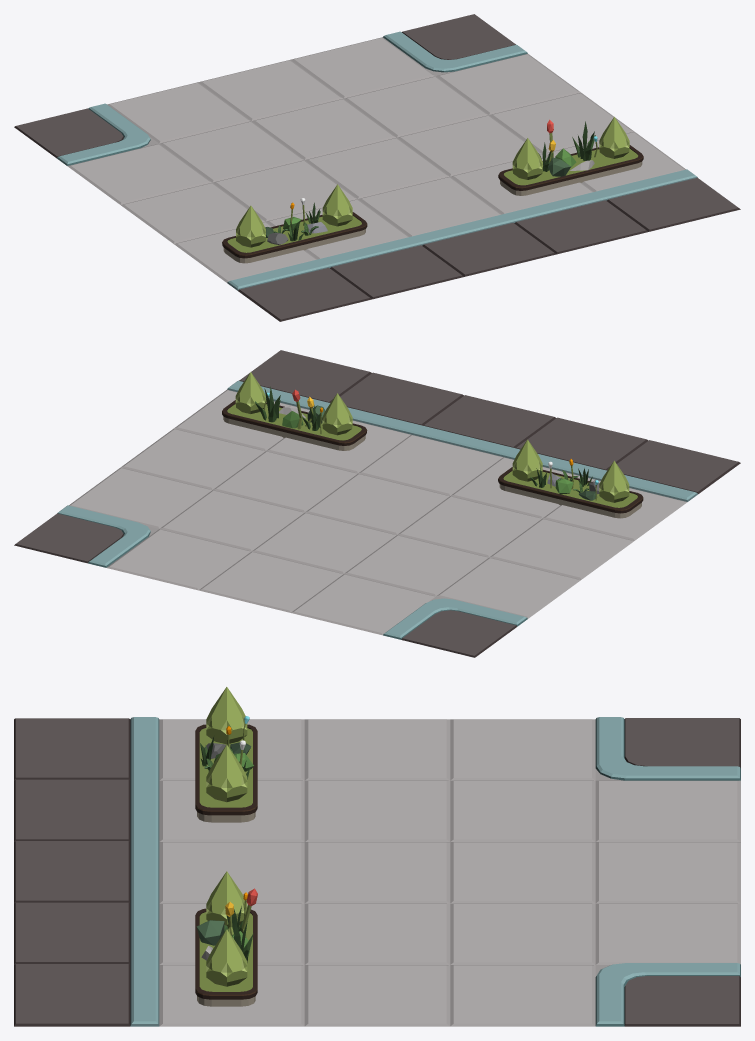
File: Fork_C.fbx
3 renders of one model, top to bottom at view 1: azimuth 30°, elevation 25°; view 2: azimuth 150°, elevation 25°; view 3: azimuth 270°, elevation 25°, orthographic. The views are drawn at different scales.
Visible parts, largest first — view 1: Fork_C, Cube.246, Cube.245, Cone.114, Cone.116, Cone.117, Cone.115; view 2: Fork_C, Cube.245, Cube.246, Cone.115, Cone.116, Cone.114, Cone.117; view 3: Fork_C, Cube.245, Cube.246, Cone.117, Cone.114, Cone.115, Cone.116, Tree_03.1448.
Part boxes in pixels (<box>): Fork_C: <box>14,14,740,321</box>; Cube.246: <box>498,145,643,195</box>; Cube.245: <box>222,212,367,263</box>; Cone.114: <box>322,184,352,226</box>; Cone.116: <box>512,138,542,179</box>; Cone.117: <box>599,117,629,158</box>; Cone.115: <box>236,205,265,247</box>; Fork_C: <box>14,350,740,657</box>; Cube.245: <box>498,467,643,518</box>; Cube.246: <box>222,400,367,450</box>; Cone.115: <box>599,460,629,502</box>; Cone.116: <box>322,393,352,435</box>; Cone.114: <box>512,439,542,481</box>; Cone.117: <box>235,372,265,413</box>; Fork_C: <box>14,717,740,1026</box>; Cube.245: <box>195,724,257,822</box>; Cube.246: <box>195,908,257,1006</box>; Cone.117: <box>206,929,247,986</box>; Cone.114: <box>206,744,247,802</box>; Cone.115: <box>206,687,247,744</box>; Cone.116: <box>206,871,247,928</box>; Tree_03.1448: <box>196,920,224,945</box>.
Size of what is drawn, in the model's own units: 16000 by 1690 by 16000.
1 material, 1 textured.
